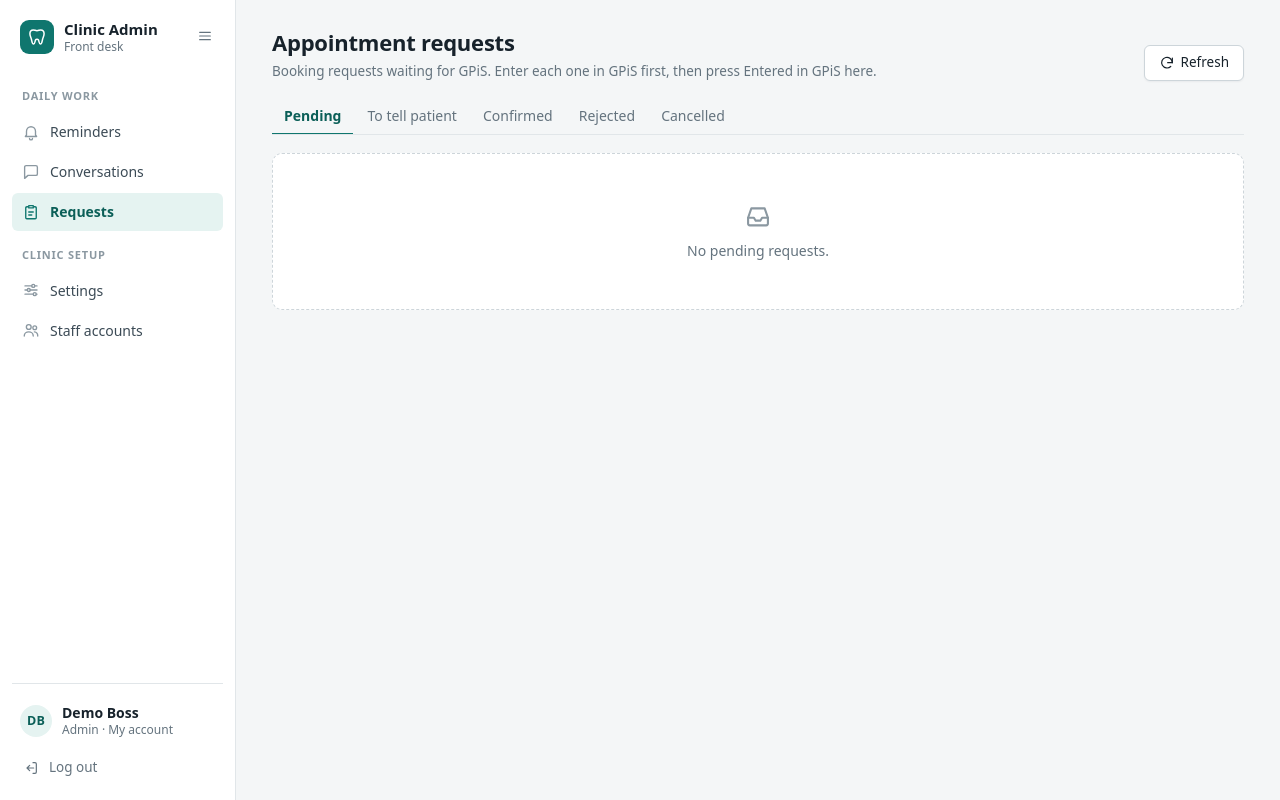
Test: login › goes back to the login form when the session expires
Expected: the heading "Appointment requests" is shown, [272, 27, 515, 57]
Step 1. Click the button "Refresh" → (1194, 63), box [1144, 45, 1244, 81]
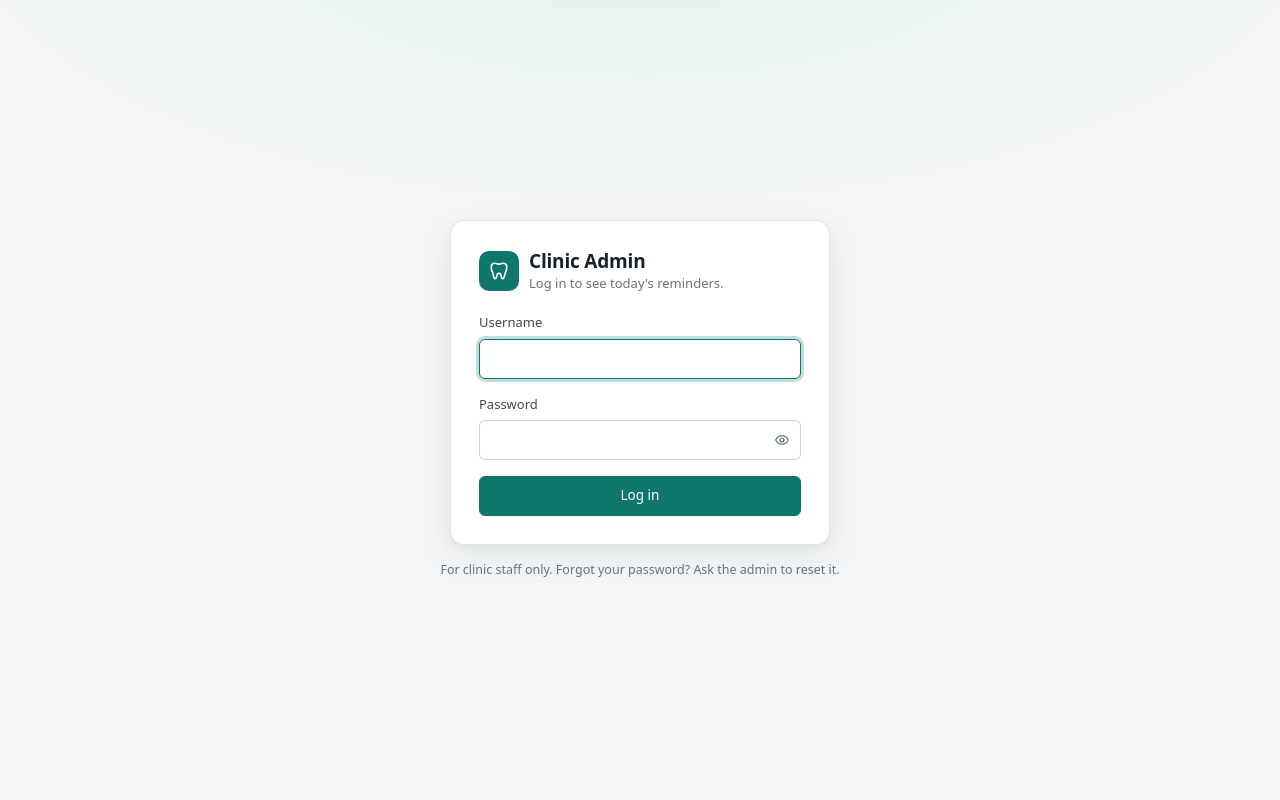
Expected: the button "Log in" is shown, [479, 476, 801, 516]
